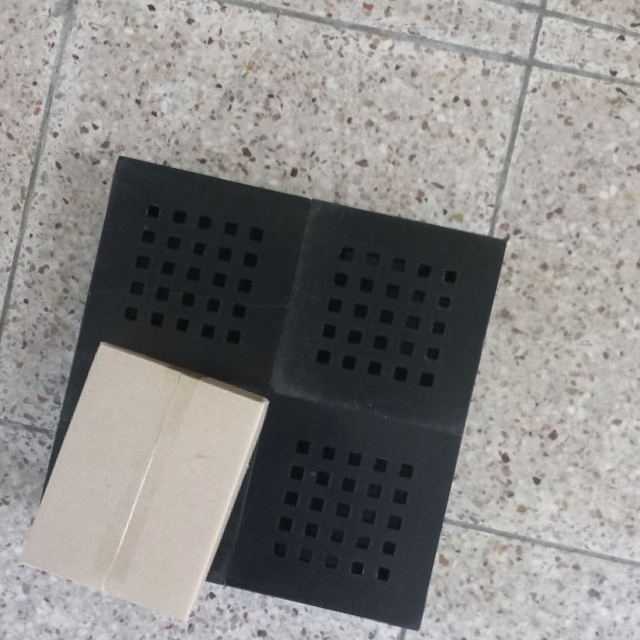box: (16, 339, 267, 624)
pallet: (34, 143, 515, 639)
